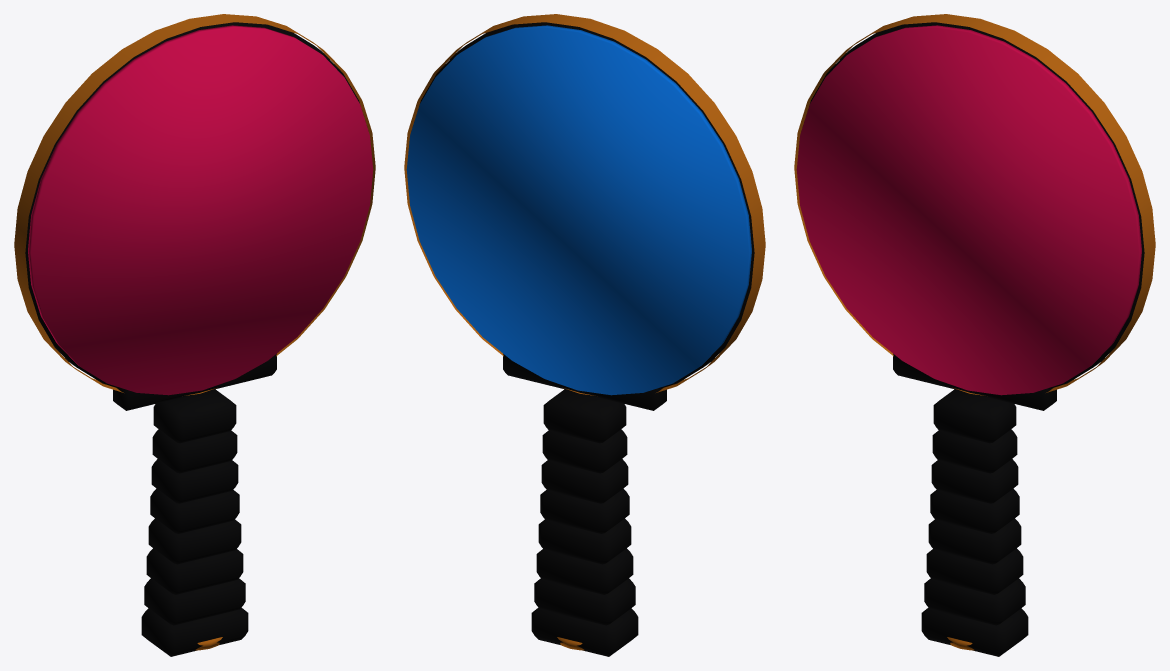
Rendered from cozy_tt_paddle_carbon_pro.obj.
3 renders of one model, left to right at view 1: azimuth 30°, elevation 25°; view 2: azimuth 150°, elevation 25°; view 3: azimuth 330°, elevation 25°, orthographic.
Parts seen in each view (by area): view 1: cozy_tt_paddle_carbon_pro_Mesh; view 2: cozy_tt_paddle_carbon_pro_Mesh; view 3: cozy_tt_paddle_carbon_pro_Mesh.
Boxes of the visible parts, x1,y1,x2,y2 form: cozy_tt_paddle_carbon_pro_Mesh: (14, 14, 375, 656); cozy_tt_paddle_carbon_pro_Mesh: (404, 14, 765, 656); cozy_tt_paddle_carbon_pro_Mesh: (794, 14, 1155, 656).
Bounding box in the file's own units: 0.1536 × 0.2586 × 0.026.
